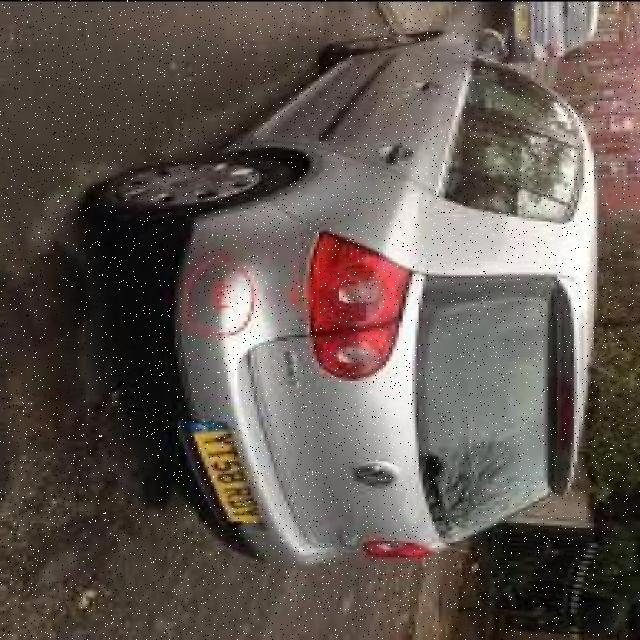damage: (182, 258, 252, 336)
